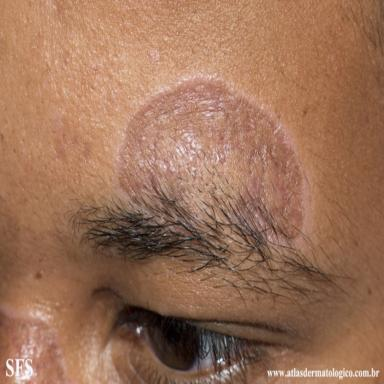Lupus-Erythematosus-Chronicus-Discoides: (120, 80, 307, 236)
